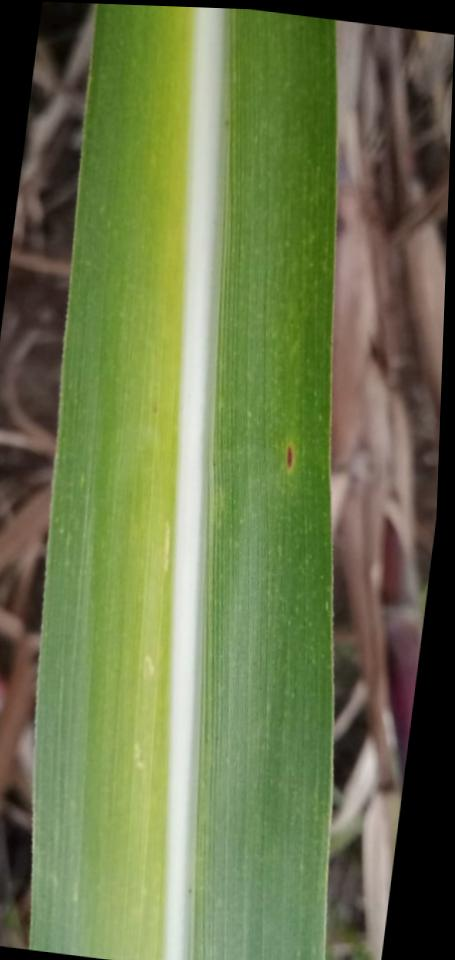Rust: (281, 440, 297, 470)
Yellow: (86, 5, 194, 960)
